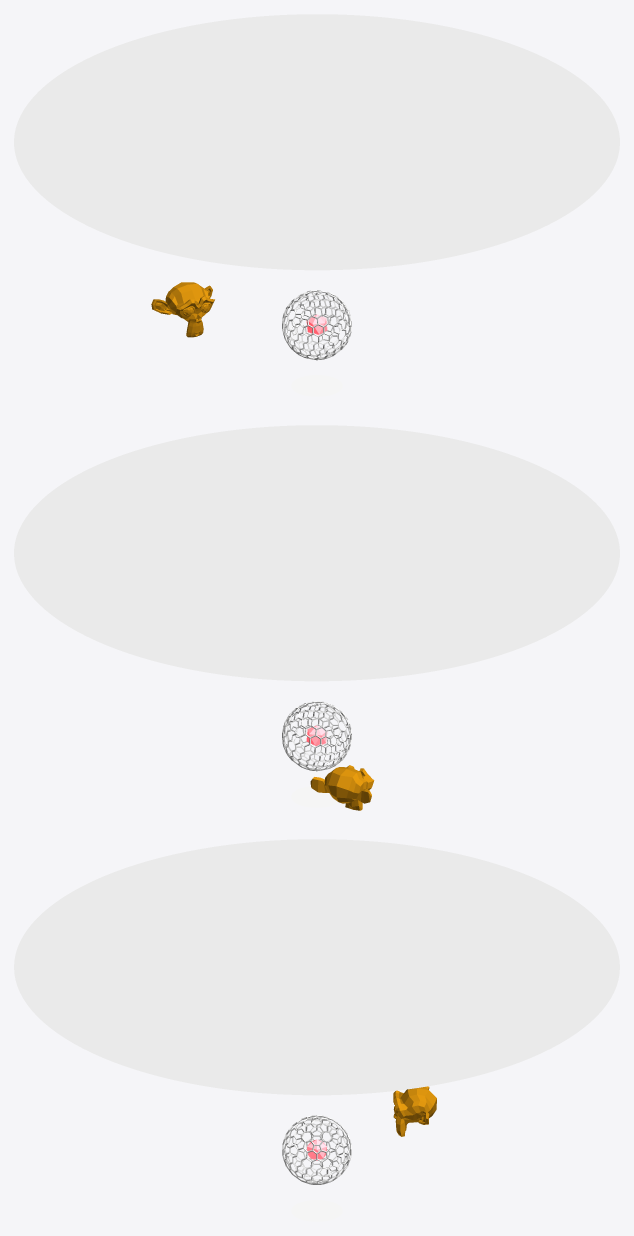
File: core.glb
3 views of the same model, one above another, from view 1: azimuth 30°, elevation 25°; view 2: azimuth 150°, elevation 25°; view 3: azimuth 270°, elevation 25° (orthographic).
Parts seen in each view (by area): view 1: Circle.001, Icosphere.003, Suzanne, Circle; view 2: Circle.001, Icosphere.003, Suzanne, Circle; view 3: Circle.001, Icosphere.003, Suzanne, Circle.
Boxes of the visible parts, box(x1,y1,x2,y2) form: Circle.001: box(14, 14, 619, 270); Icosphere.003: box(282, 290, 351, 360); Suzanne: box(151, 282, 214, 337); Circle: box(291, 375, 342, 396); Circle.001: box(14, 425, 619, 681); Icosphere.003: box(282, 701, 351, 771); Suzanne: box(310, 765, 374, 810); Circle: box(291, 786, 338, 807); Circle.001: box(14, 839, 619, 1095); Icosphere.003: box(282, 1115, 351, 1184); Suzanne: box(393, 1086, 436, 1136); Circle: box(291, 1200, 342, 1221).
Size of the model in its own units: 23.5 by 10.42 by 23.5.
